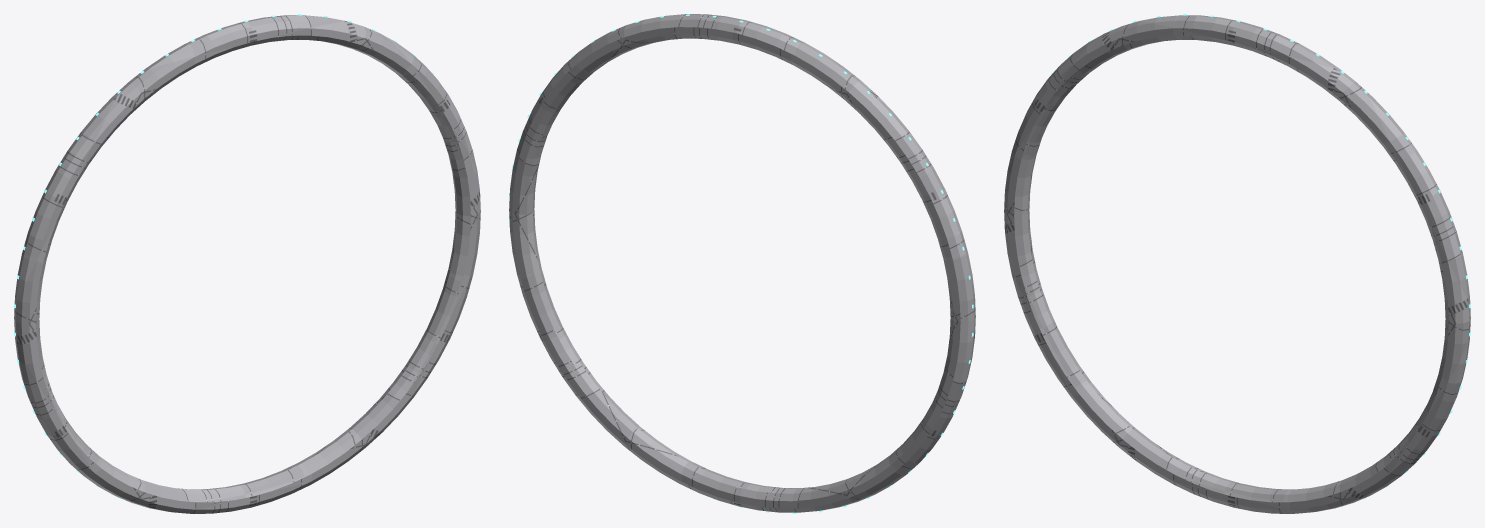
File: station_ring_full.glb
3 views of the same model, side by side, from view 1: azimuth 30°, elevation 25°; view 2: azimuth 150°, elevation 25°; view 3: azimuth 330°, elevation 25° (orthographic).
Parts seen in each view (by area): view 1: Merged_StationHull; view 2: Merged_StationHull; view 3: Merged_StationHull.
Part boxes in pixels (x1=…): Merged_StationHull: x1=14, y1=15, x2=480, y2=513; Merged_StationHull: x1=509, y1=14, x2=975, y2=512; Merged_StationHull: x1=1004, y1=15, x2=1470, y2=513.
Size of the model in its own units: 126 by 126 by 5.71.
Materials: 3 (1 with a texture image).
